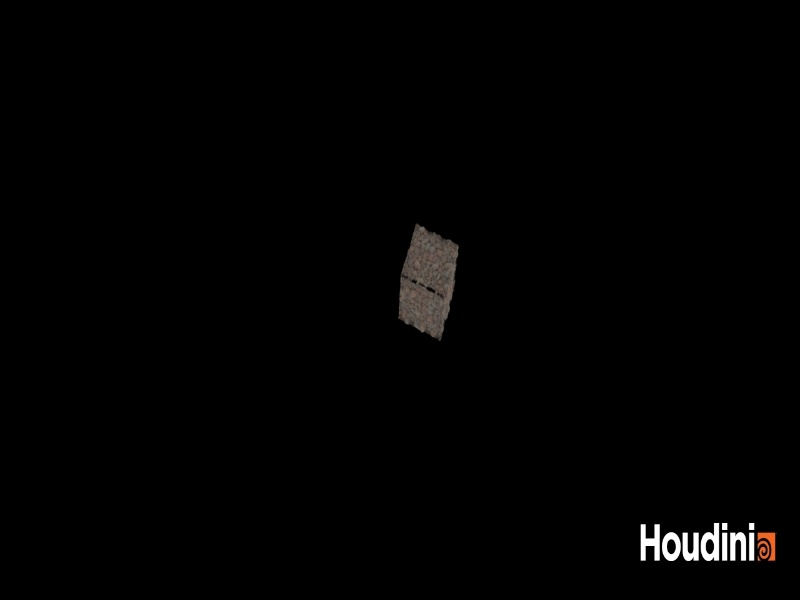waste: (387, 207, 468, 353)
